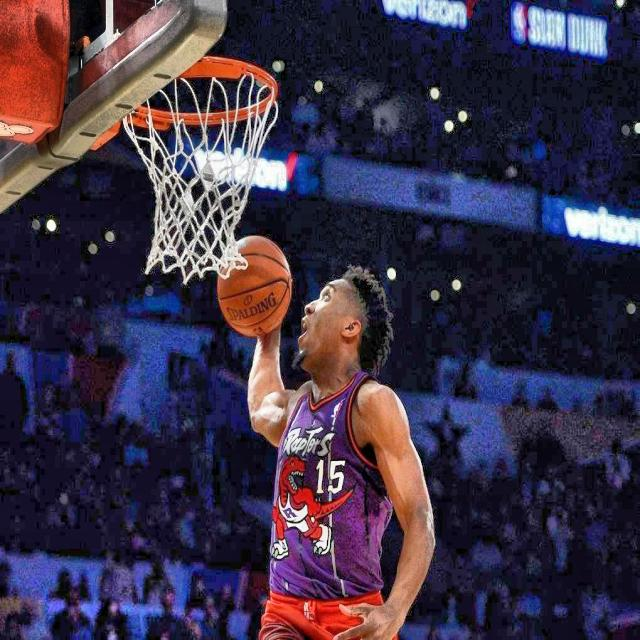board: (216, 236, 292, 338)
rim: (125, 52, 277, 279)
